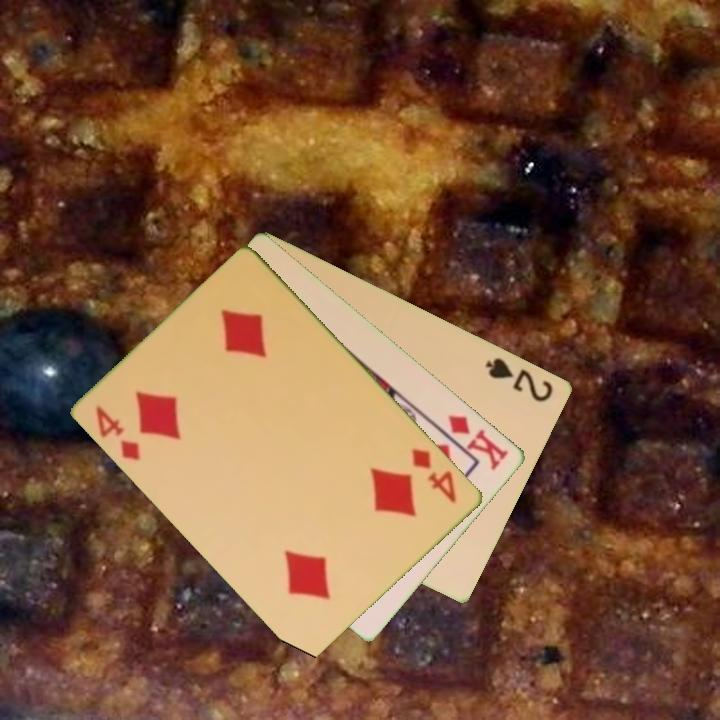2s: (482, 353, 557, 405)
4d: (408, 444, 460, 507), (92, 401, 144, 464)
Kd: (434, 411, 512, 473)
